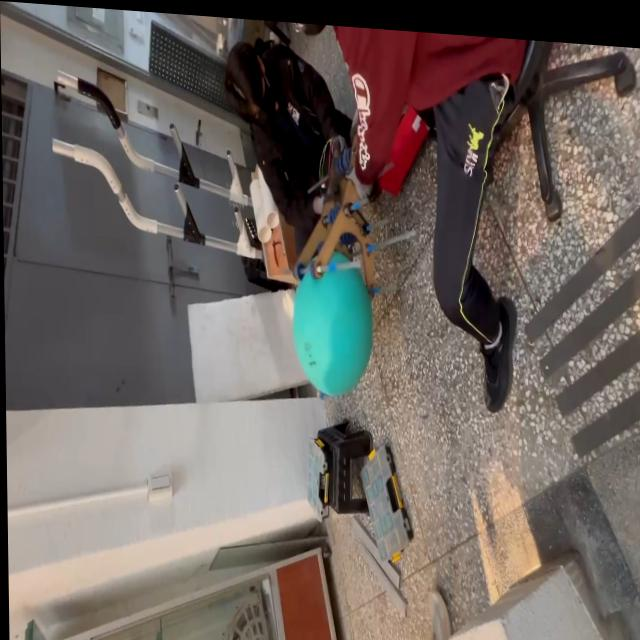ALGAE: (290, 249, 375, 401)
